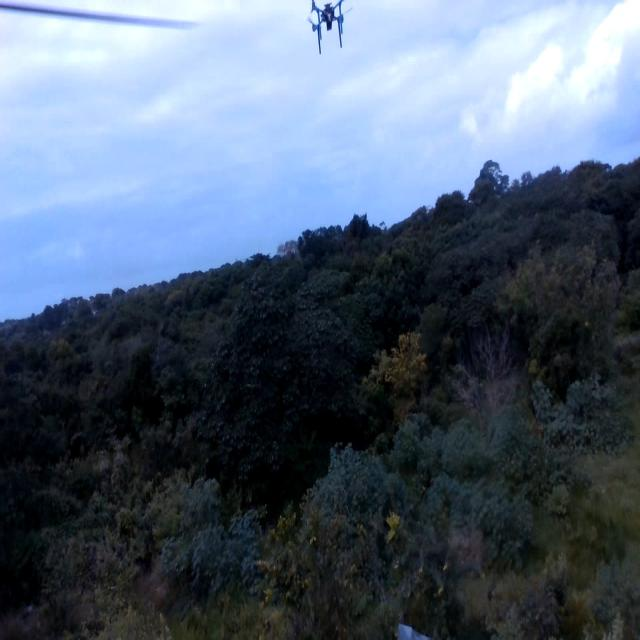-uav-: (295, 2, 358, 64)
